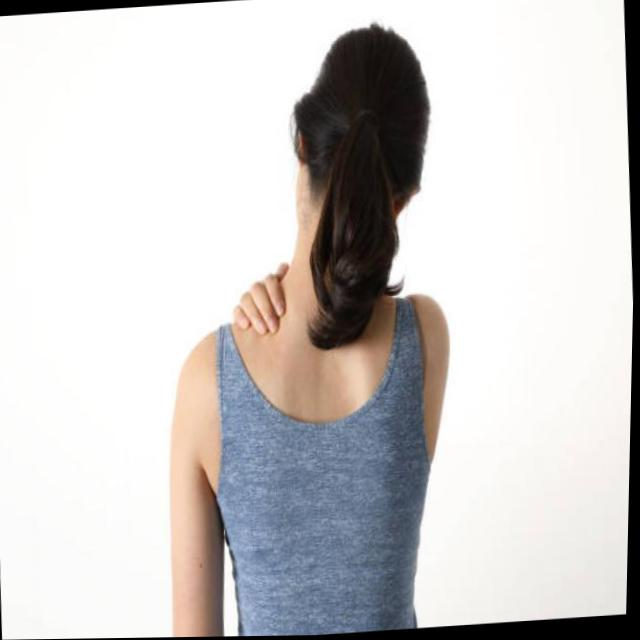no helmet: (274, 3, 454, 324)
